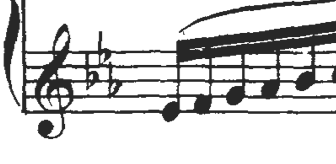flat: (80, 49, 103, 96), (105, 57, 127, 104), (94, 27, 114, 70)
treble_clef: (29, 17, 79, 147)
